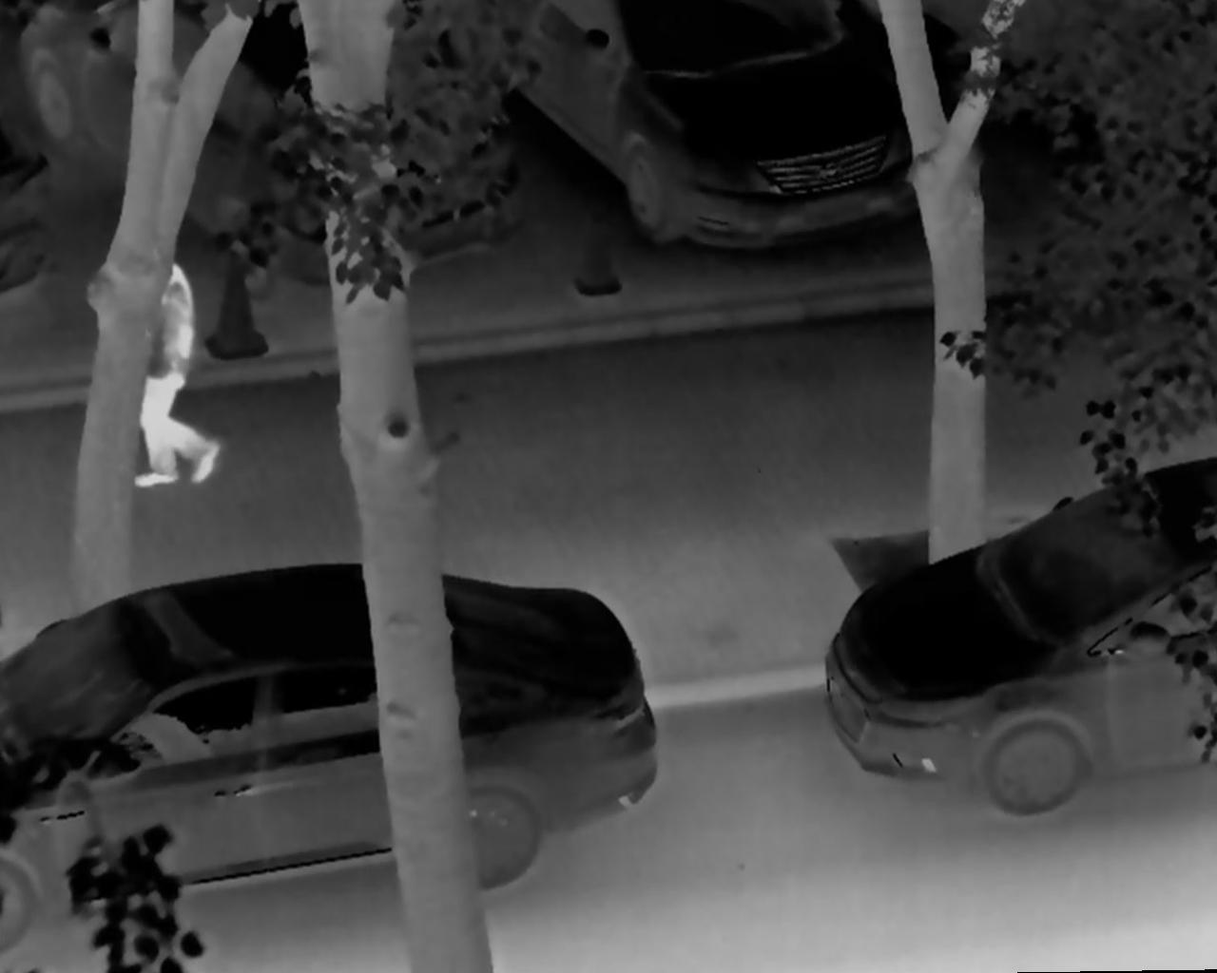person: (120, 246, 224, 496)
